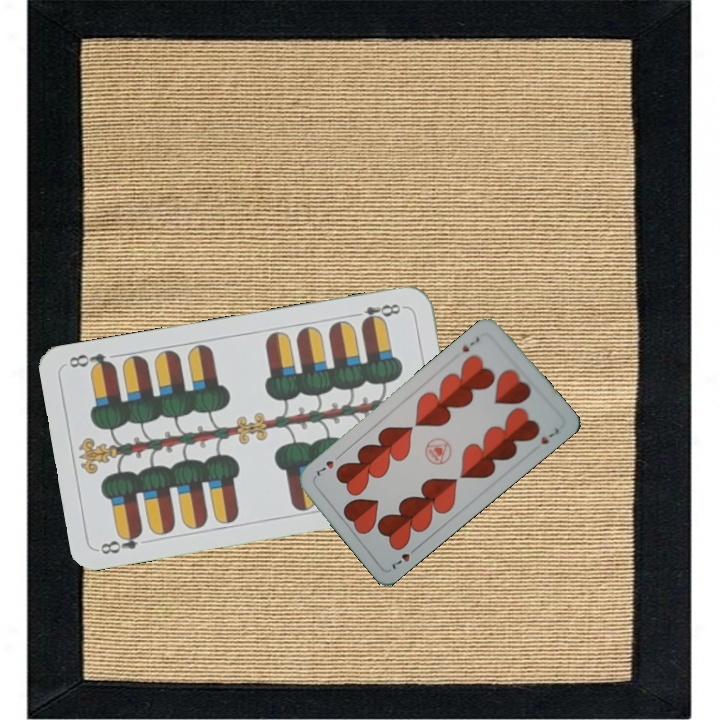E8: (349, 299, 408, 327), (96, 527, 145, 557)
H7: (386, 542, 421, 572), (458, 333, 483, 355)
